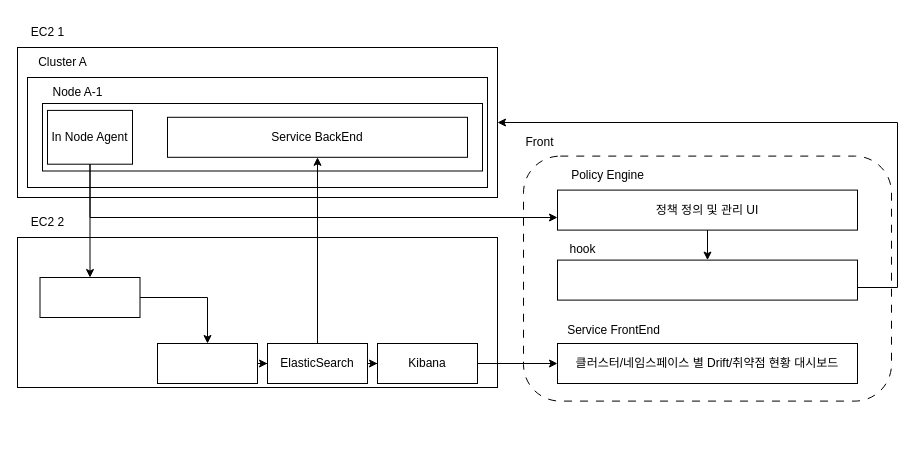
Image size: 923x456. Some labels were removed from this diagram. Each missing label, with the centre of its shape:
"Admission Webhook / Alert System" goes at pixel 707 279.
"Kafka" goes at pixel 89 297.
"Logstash" goes at pixel 207 363.
